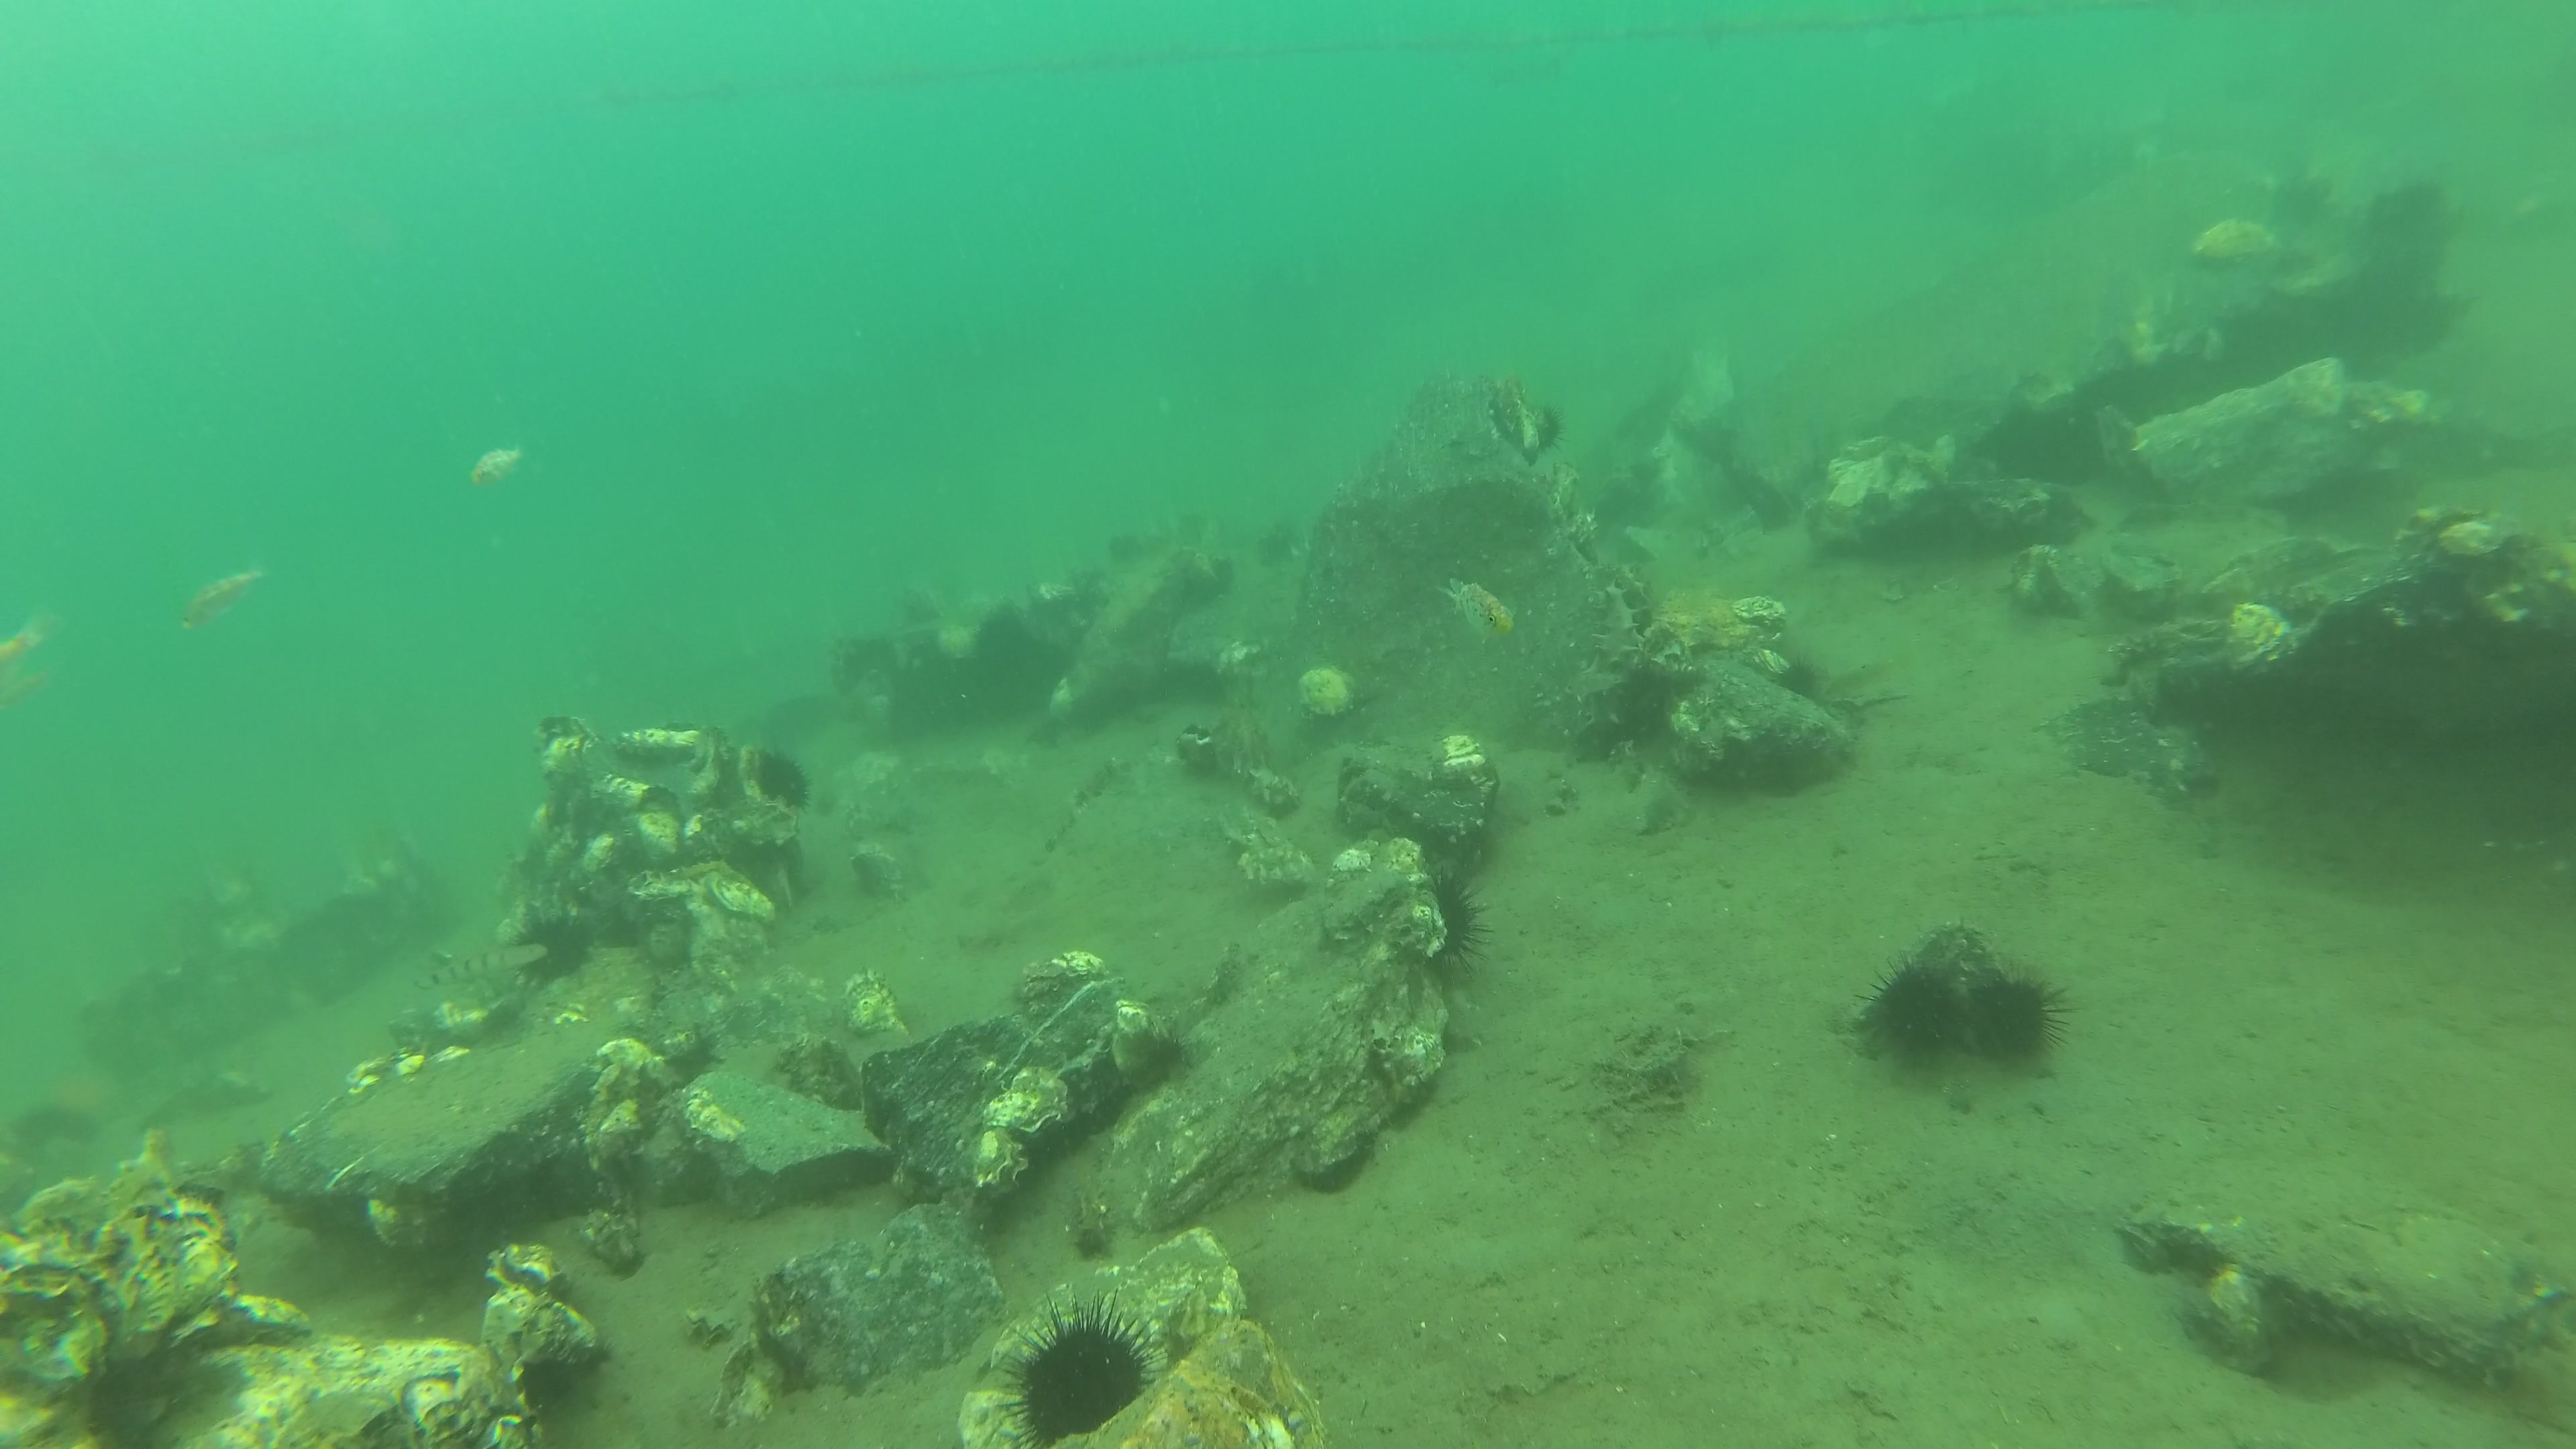echinus: (1000, 1302, 1162, 1444), (1859, 955, 1967, 1069), (1966, 966, 2075, 1072), (1421, 872, 1497, 982), (502, 915, 589, 985), (747, 738, 821, 819)
